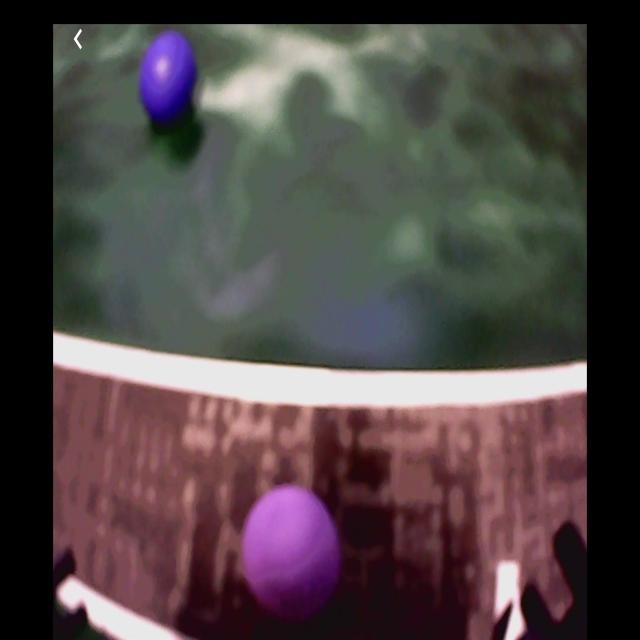ball: (241, 484, 342, 621), (138, 32, 199, 127)
